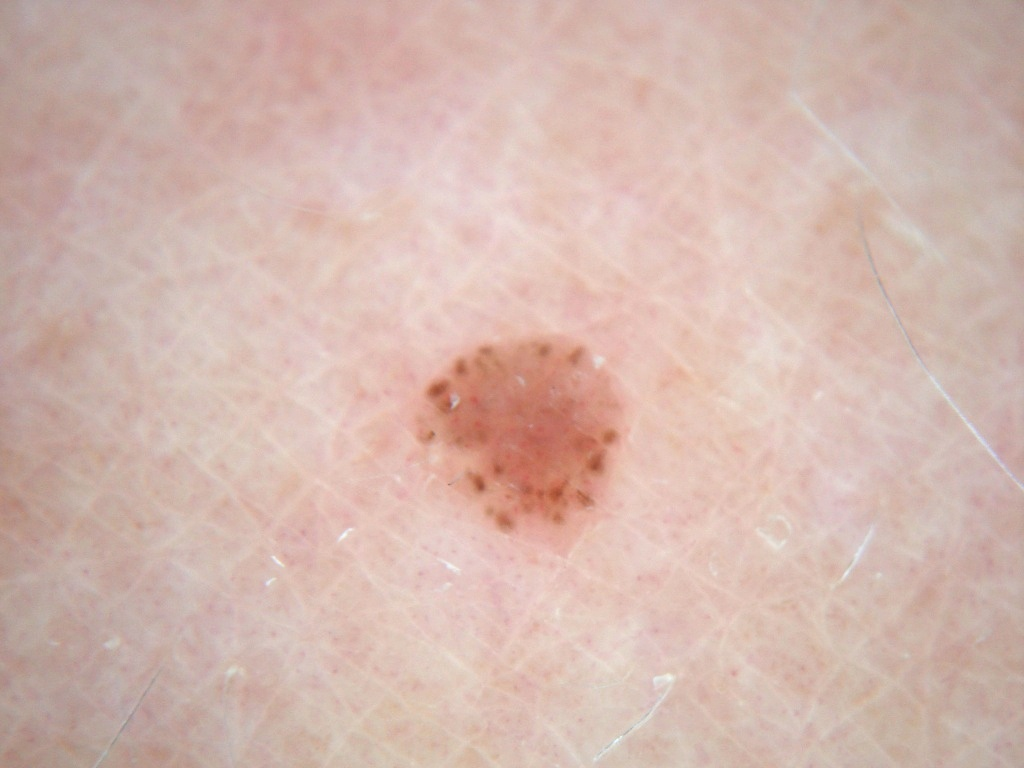Detected Lesion: (405, 331, 640, 550)
